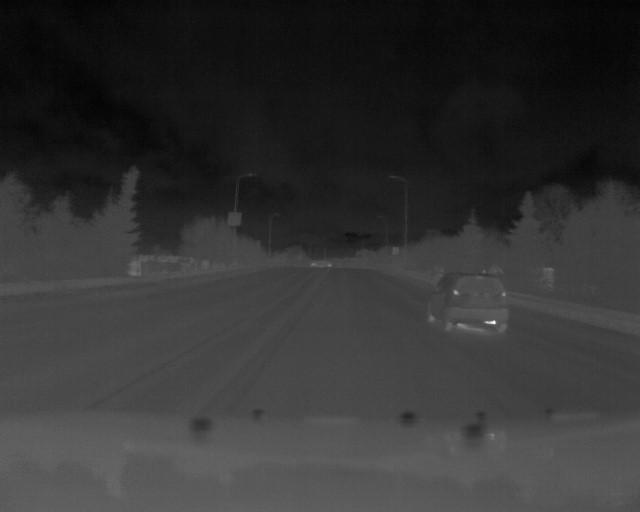car: (422, 271, 510, 330)
